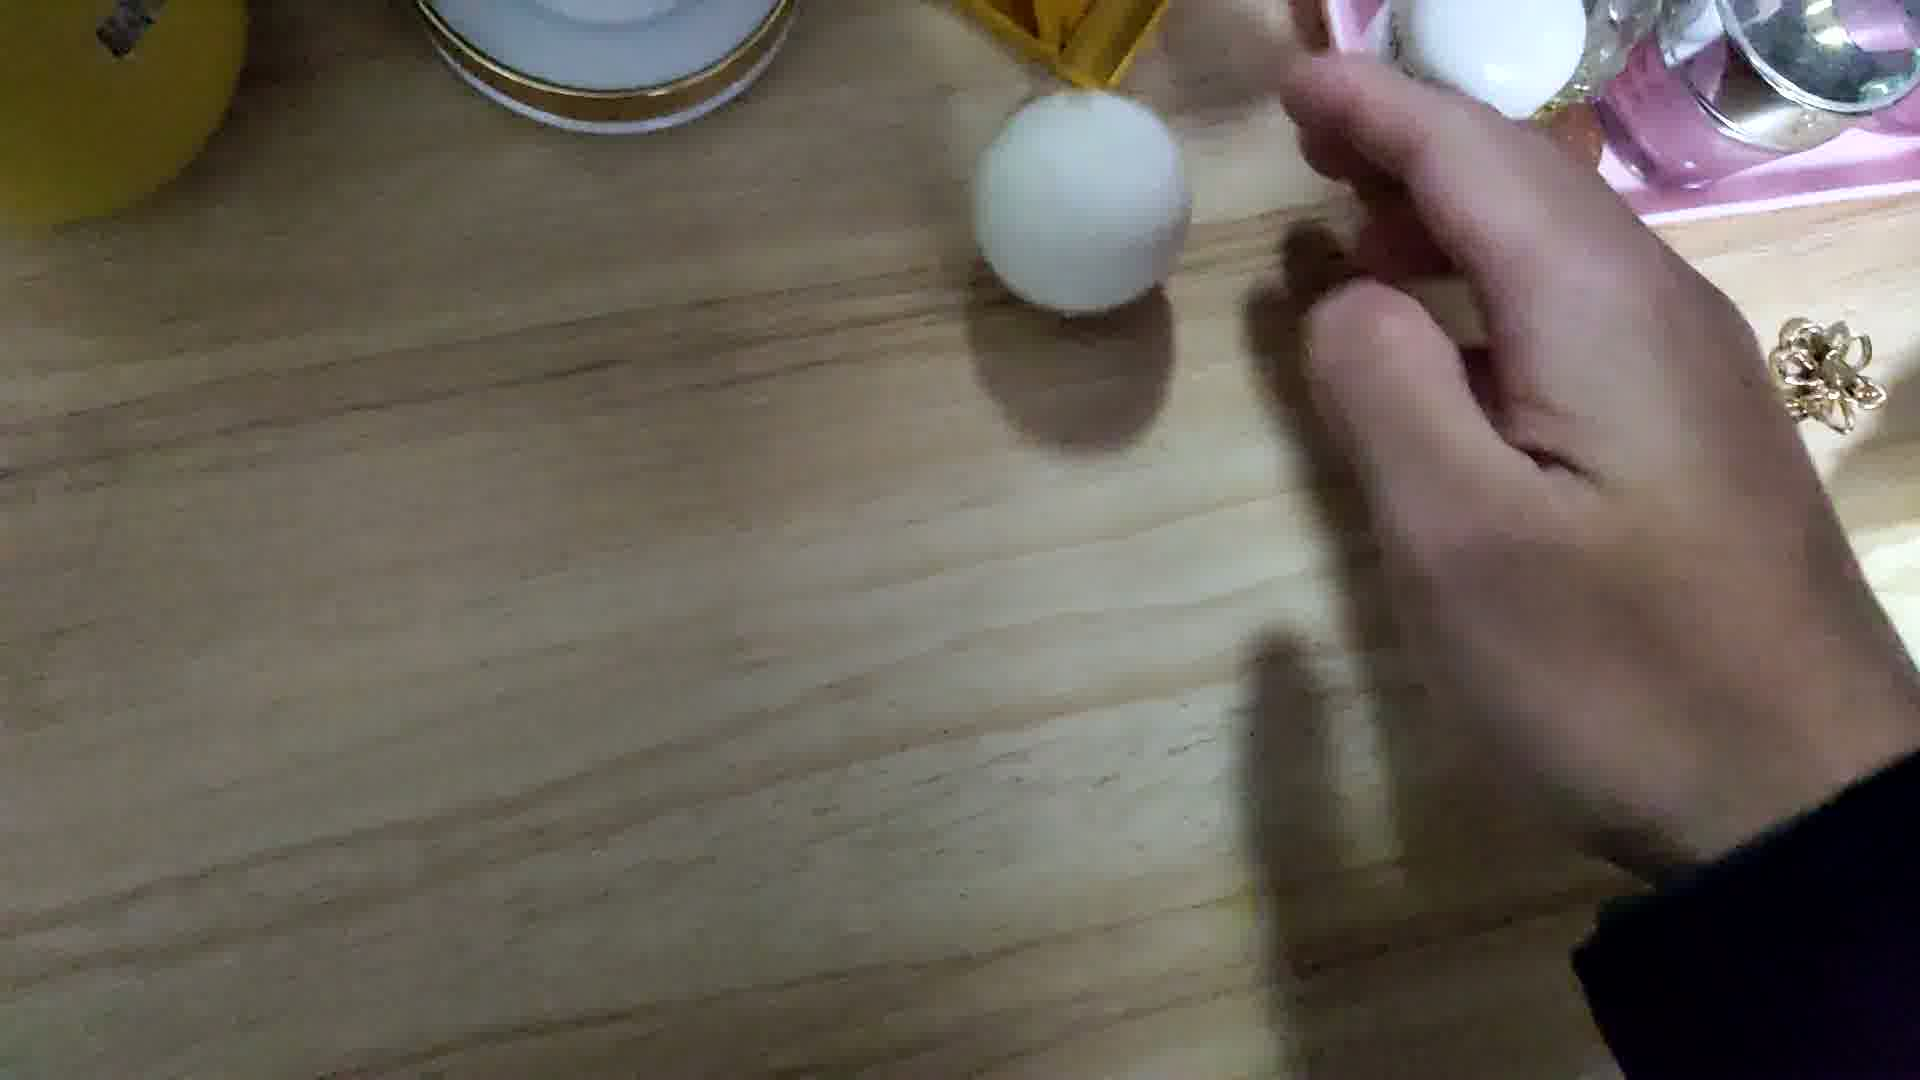Ball: (975, 90, 1199, 319)
